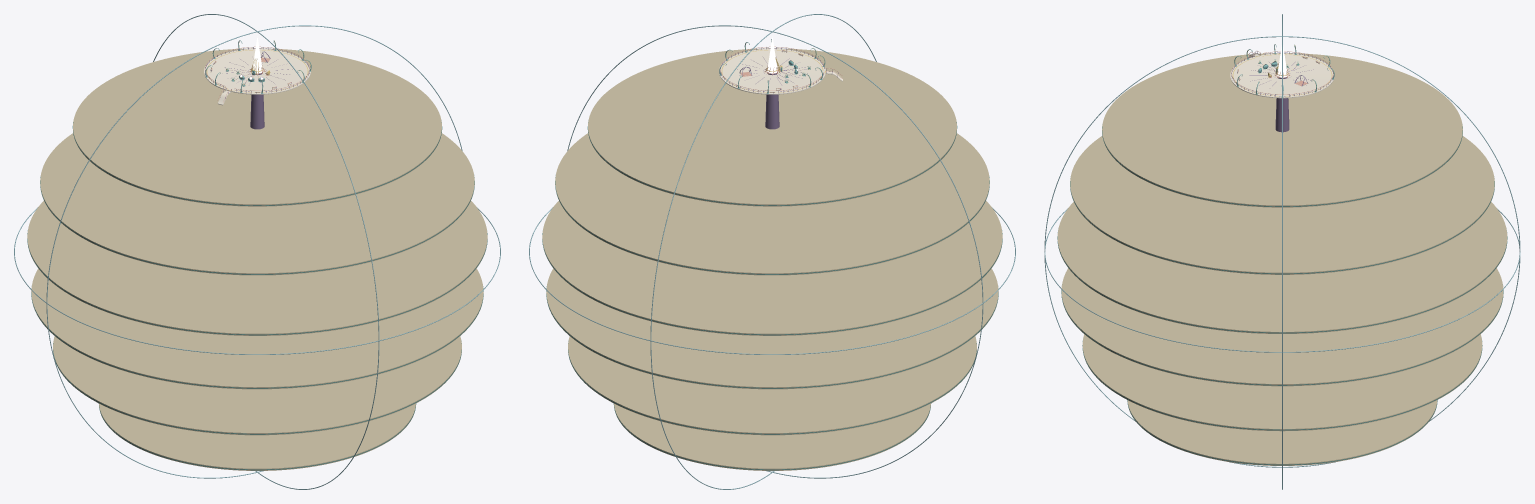
Rendered from ship_dimensions_tiers_v2.glb.
The picture shows the model from 3 angles, left to right: view 1: azimuth 30°, elevation 25°; view 2: azimuth 150°, elevation 25°; view 3: azimuth 270°, elevation 25°; orthographic projection. The views are drawn at different scales.
Visible parts, largest first — view 1: Deck 01 top 57m, Deck 02 top 32m, Deck 03 top 7m, Deck 04 top -18m, Deck 05 top -43m, Deck 06 top -68m, GUIDE bubble great circle 1, GUIDE bubble great circle 2, GUIDE bubble great circle 0, Deck 03 edge, Deck 04 edge, deck_floor_fill (+2 smaller); view 2: Deck 01 top 57m, Deck 02 top 32m, Deck 03 top 7m, Deck 04 top -18m, Deck 05 top -43m, Deck 06 top -68m, GUIDE bubble great circle 1, GUIDE bubble great circle 2, GUIDE bubble great circle 0, Deck 03 edge, Deck 04 edge, deck_floor_fill (+2 smaller); view 3: Deck 01 top 57m, Deck 02 top 32m, Deck 03 top 7m, Deck 04 top -18m, Deck 05 top -43m, Deck 06 top -68m, GUIDE bubble great circle 2, GUIDE bubble great circle 0, Deck 03 edge, Deck 04 edge, deck_floor_fill, Deck 02 edge (+1 smaller).
Boxes of the visible parts, left/top/right/bottom form: Deck 01 top 57m: left=73, top=48, right=441, bottom=206; Deck 02 top 32m: left=40, top=133, right=474, bottom=275; Deck 03 top 7m: left=27, top=201, right=487, bottom=335; Deck 04 top -18m: left=31, top=268, right=483, bottom=389; Deck 05 top -43m: left=53, top=336, right=461, bottom=435; Deck 06 top -68m: left=99, top=403, right=415, bottom=470; GUIDE bubble great circle 1: left=46, top=25, right=462, bottom=478; GUIDE bubble great circle 2: left=153, top=14, right=379, bottom=489; GUIDE bubble great circle 0: left=14, top=207, right=500, bottom=354; Deck 03 edge: left=27, top=230, right=487, bottom=335; Deck 04 edge: left=31, top=286, right=483, bottom=388; deck_floor_fill: left=204, top=48, right=310, bottom=93; Deck 01 top 57m: left=588, top=48, right=956, bottom=206; Deck 02 top 32m: left=555, top=133, right=989, bottom=275; Deck 03 top 7m: left=542, top=201, right=1002, bottom=335; Deck 04 top -18m: left=546, top=268, right=998, bottom=389; Deck 05 top -43m: left=568, top=336, right=976, bottom=435; Deck 06 top -68m: left=614, top=403, right=930, bottom=470; GUIDE bubble great circle 1: left=567, top=25, right=983, bottom=478; GUIDE bubble great circle 2: left=650, top=14, right=876, bottom=489; GUIDE bubble great circle 0: left=529, top=207, right=1015, bottom=354; Deck 03 edge: left=542, top=230, right=1002, bottom=335; Deck 04 edge: left=546, top=286, right=998, bottom=388; deck_floor_fill: left=719, top=48, right=825, bottom=93; Deck 01 top 57m: left=1102, top=53, right=1462, bottom=207; Deck 02 top 32m: left=1070, top=136, right=1494, bottom=274; Deck 03 top 7m: left=1057, top=202, right=1507, bottom=333; Deck 04 top -18m: left=1061, top=268, right=1503, bottom=386; Deck 05 top -43m: left=1082, top=334, right=1482, bottom=431; Deck 06 top -68m: left=1127, top=400, right=1437, bottom=465; GUIDE bubble great circle 2: left=1044, top=36, right=1520, bottom=467; GUIDE bubble great circle 0: left=1044, top=208, right=1520, bottom=352; Deck 03 edge: left=1057, top=232, right=1507, bottom=333; Deck 04 edge: left=1061, top=289, right=1503, bottom=385; deck_floor_fill: left=1230, top=53, right=1334, bottom=97; Deck 02 edge: left=1070, top=181, right=1494, bottom=274.
Size of the model in its own units: 200 by 200 by 200.
